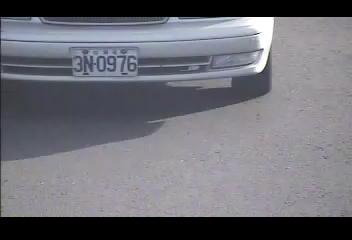plate: (68, 48, 139, 78)
